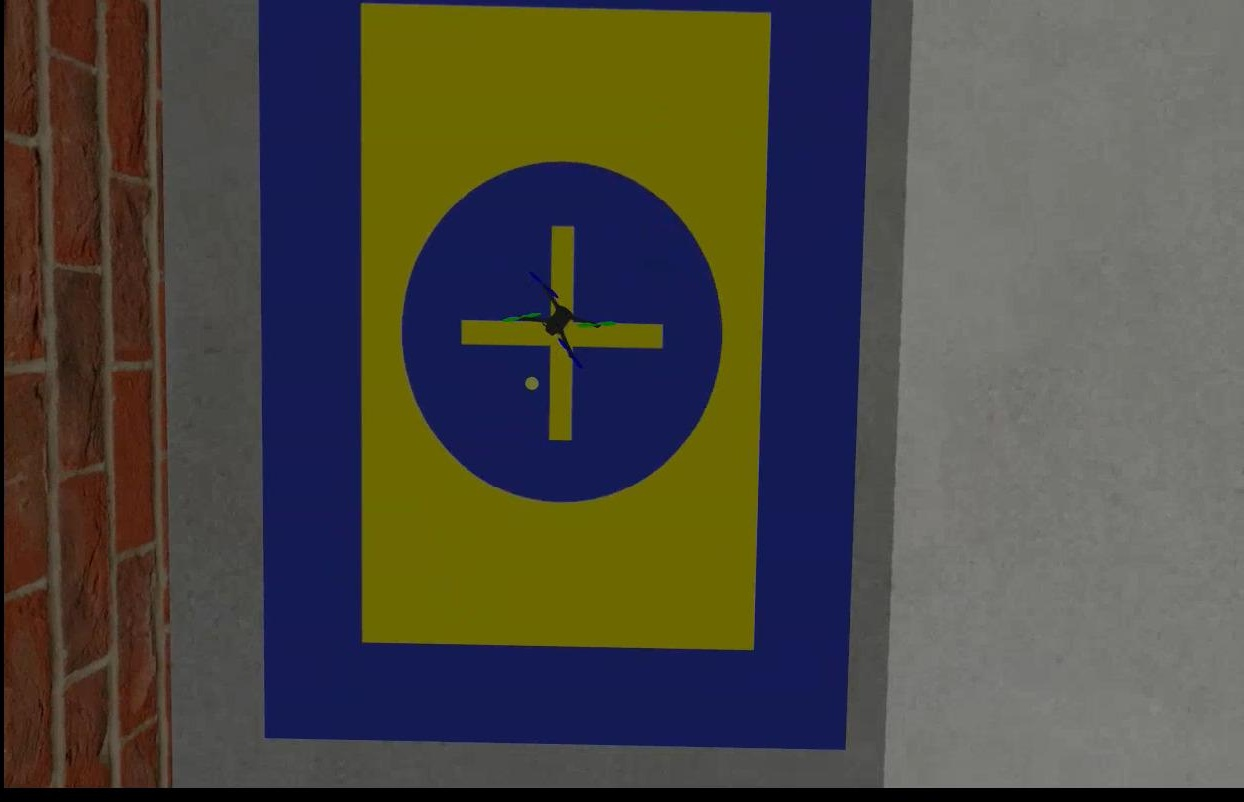large_base: (259, 1, 870, 757)
